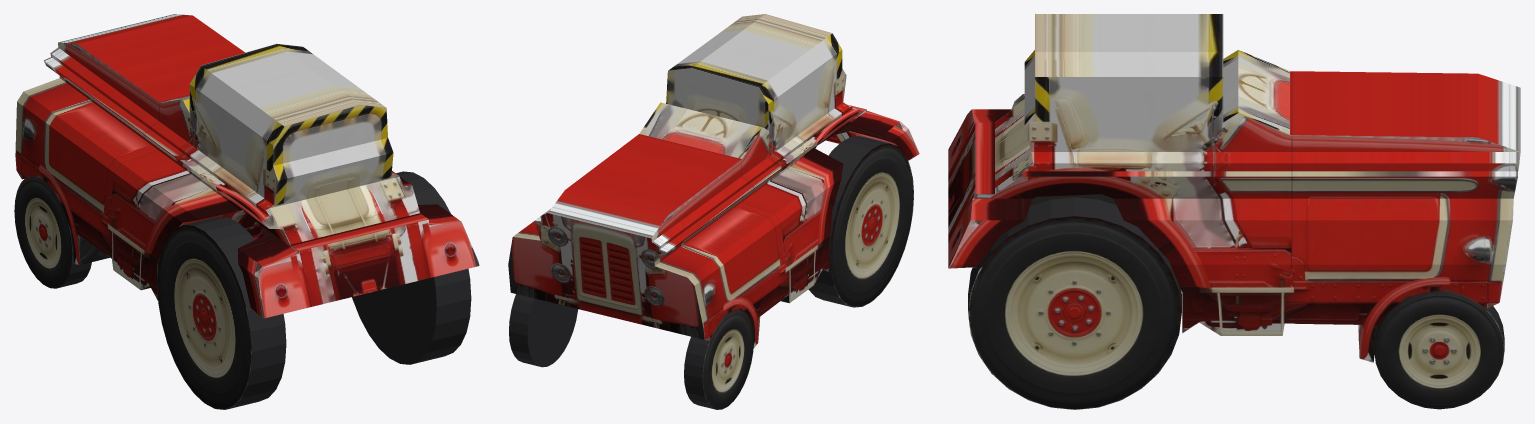
Rendered from utility_tractor.glb.
3 views of the same model, side by side, from view 1: azimuth 30°, elevation 25°; view 2: azimuth 150°, elevation 25°; view 3: azimuth 270°, elevation 25° (orthographic). The views are drawn at different scales.
Visible parts, largest first — view 1: utility_tractor, wheel_BL, wheel_BR, wheel_FL; view 2: utility_tractor, wheel_BL, wheel_FL, wheel_FR; view 3: utility_tractor, wheel_BR, wheel_FR.
Boxes of the visible parts, x1=… form: utility_tractor: x1=15, y1=14, x2=479, y2=318; wheel_BL: x1=157, y1=216, x2=286, y2=409; wheel_BR: x1=352, y1=171, x2=471, y2=364; wheel_FL: x1=14, y1=175, x2=91, y2=288; utility_tractor: x1=508, y1=14, x2=919, y2=348; wheel_BL: x1=808, y1=136, x2=913, y2=307; wheel_FL: x1=684, y1=309, x2=753, y2=409; wheel_FR: x1=509, y1=294, x2=578, y2=367; utility_tractor: x1=948, y1=14, x2=1520, y2=362; wheel_BR: x1=968, y1=197, x2=1181, y2=409; wheel_FR: x1=1374, y1=289, x2=1504, y2=409.
Size of the model in its own units: 1.98 by 2.4 by 3.97.
Materials: 3 (1 with a texture image).
